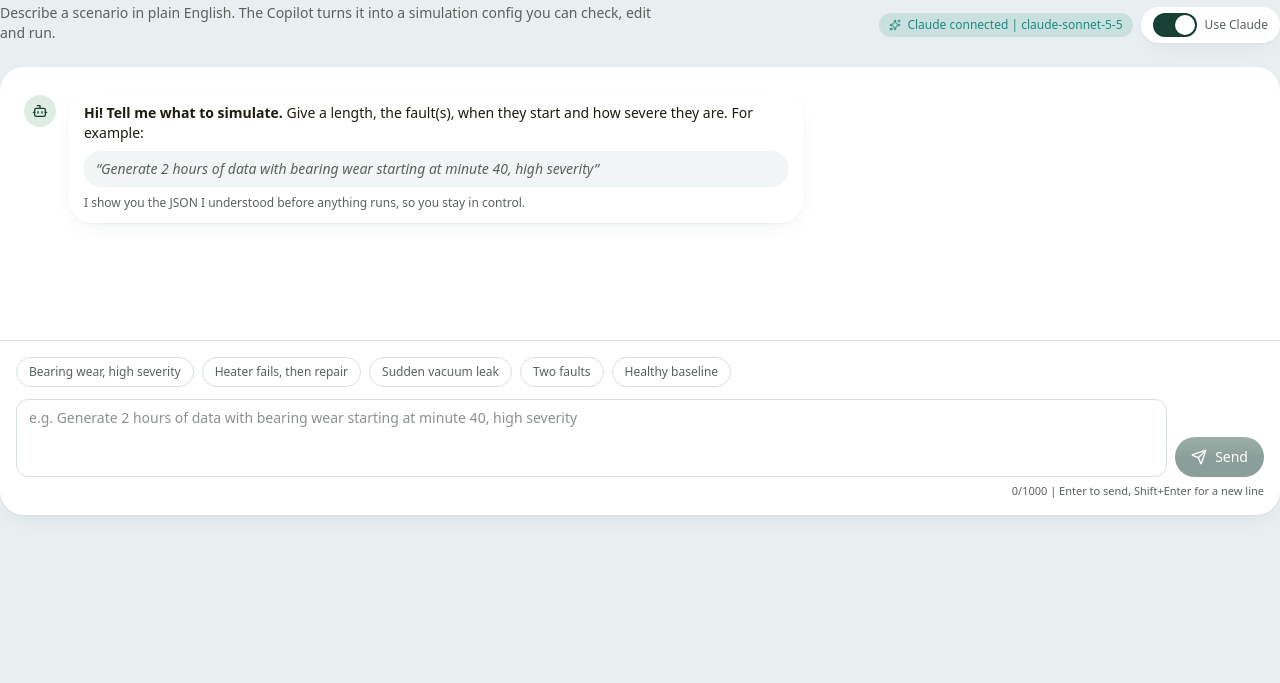
Test: Scenario Copilot page › badges a Claude answer with the model name, and explains a fallback to the rules
The width and height of the screenshot is (1280, 683).
Later steps or results of the test are not shown.
Expected: the text "Claude connected | claude-sonnet-5-5" is shown, [879,13,1133,37]
Expected: the switch named "Use Claude" is shown, [1153,13,1197,37]
Replace the text in the text box named "Describe a scenario" with "x" at point(592, 438), box [16,398,1167,476]
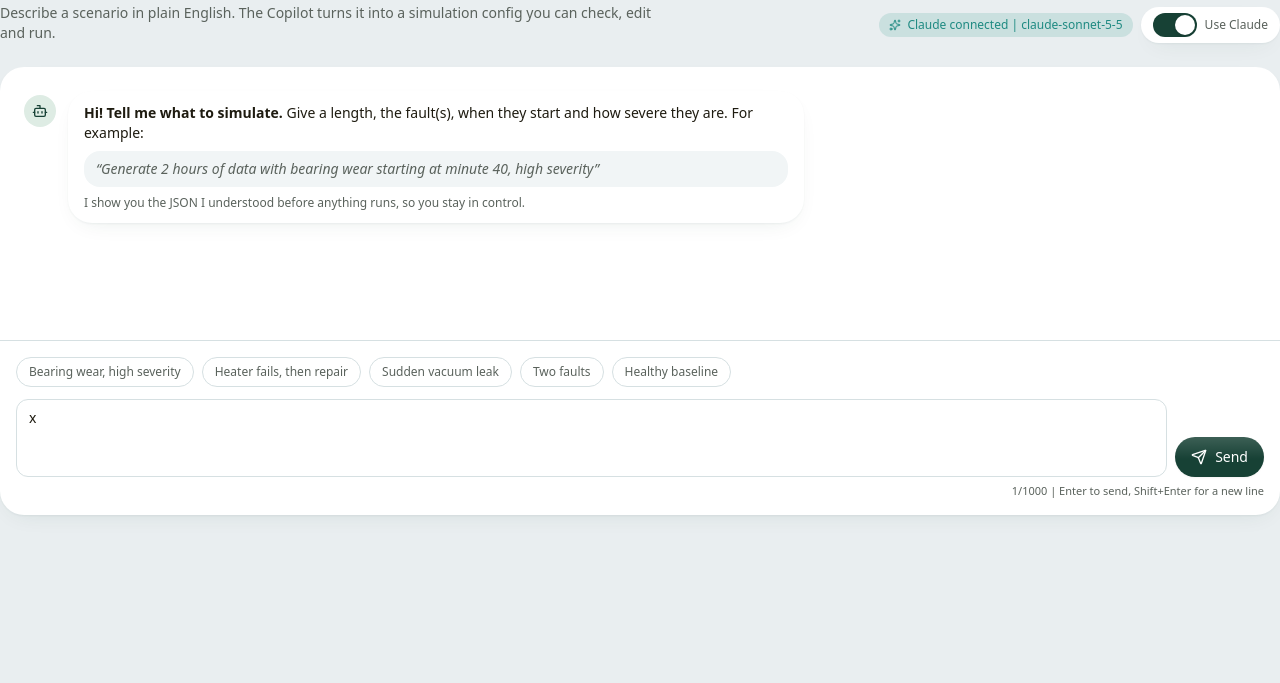
Click the button labelled "Send" at point(1220, 456), box [1175,436,1264,476]
(page scrolled)
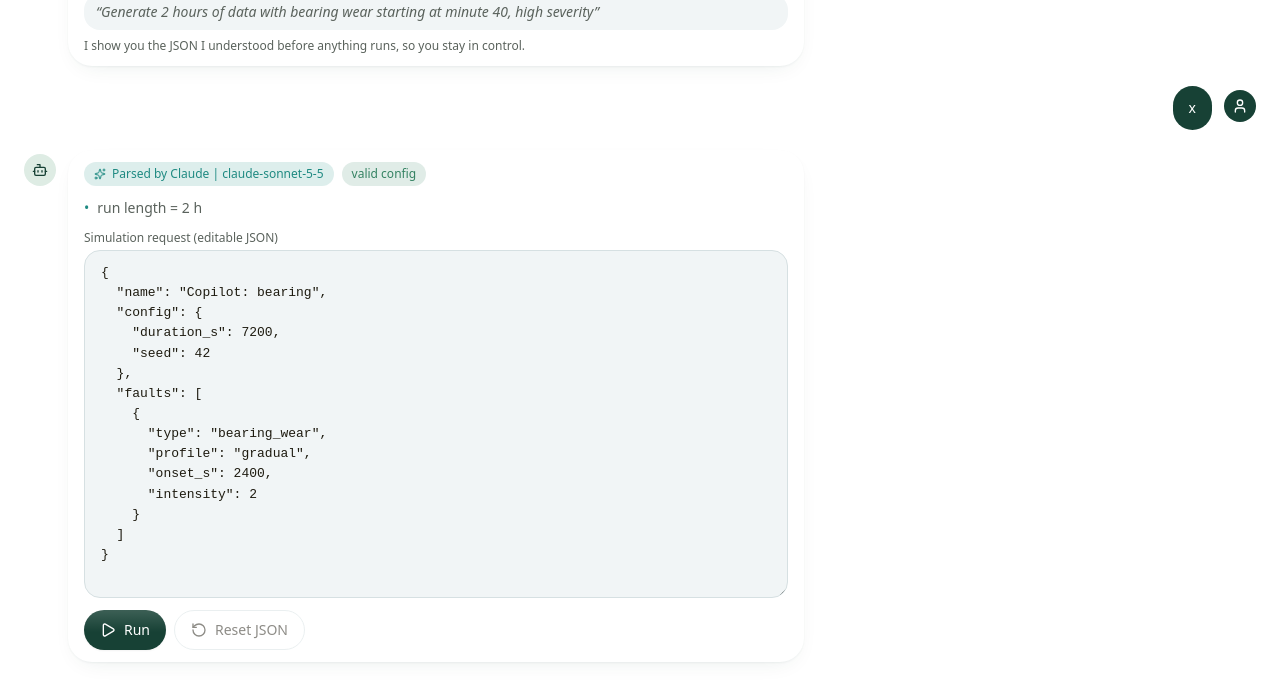
Expected: the text "Parsed by Claude | claude-sonnet-5-5" is shown, [84,162,334,186]
